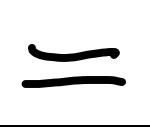eqv: (20, 42, 126, 92)
